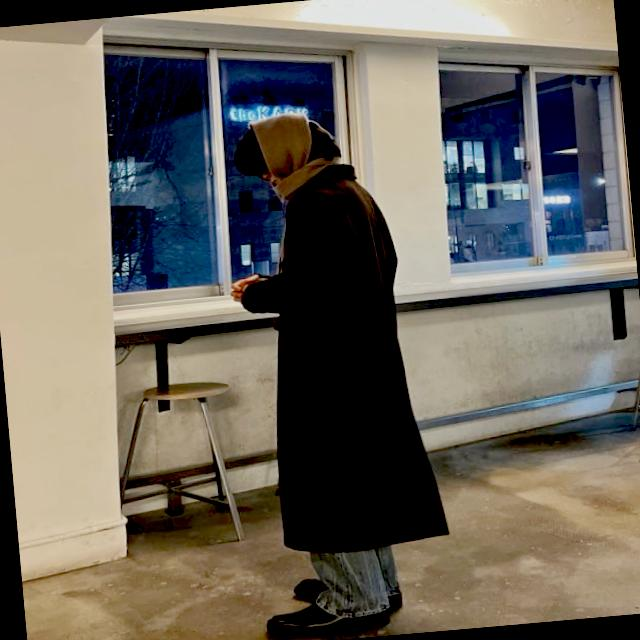coat: (232, 155, 452, 559)
denimpants: (304, 544, 402, 620)
